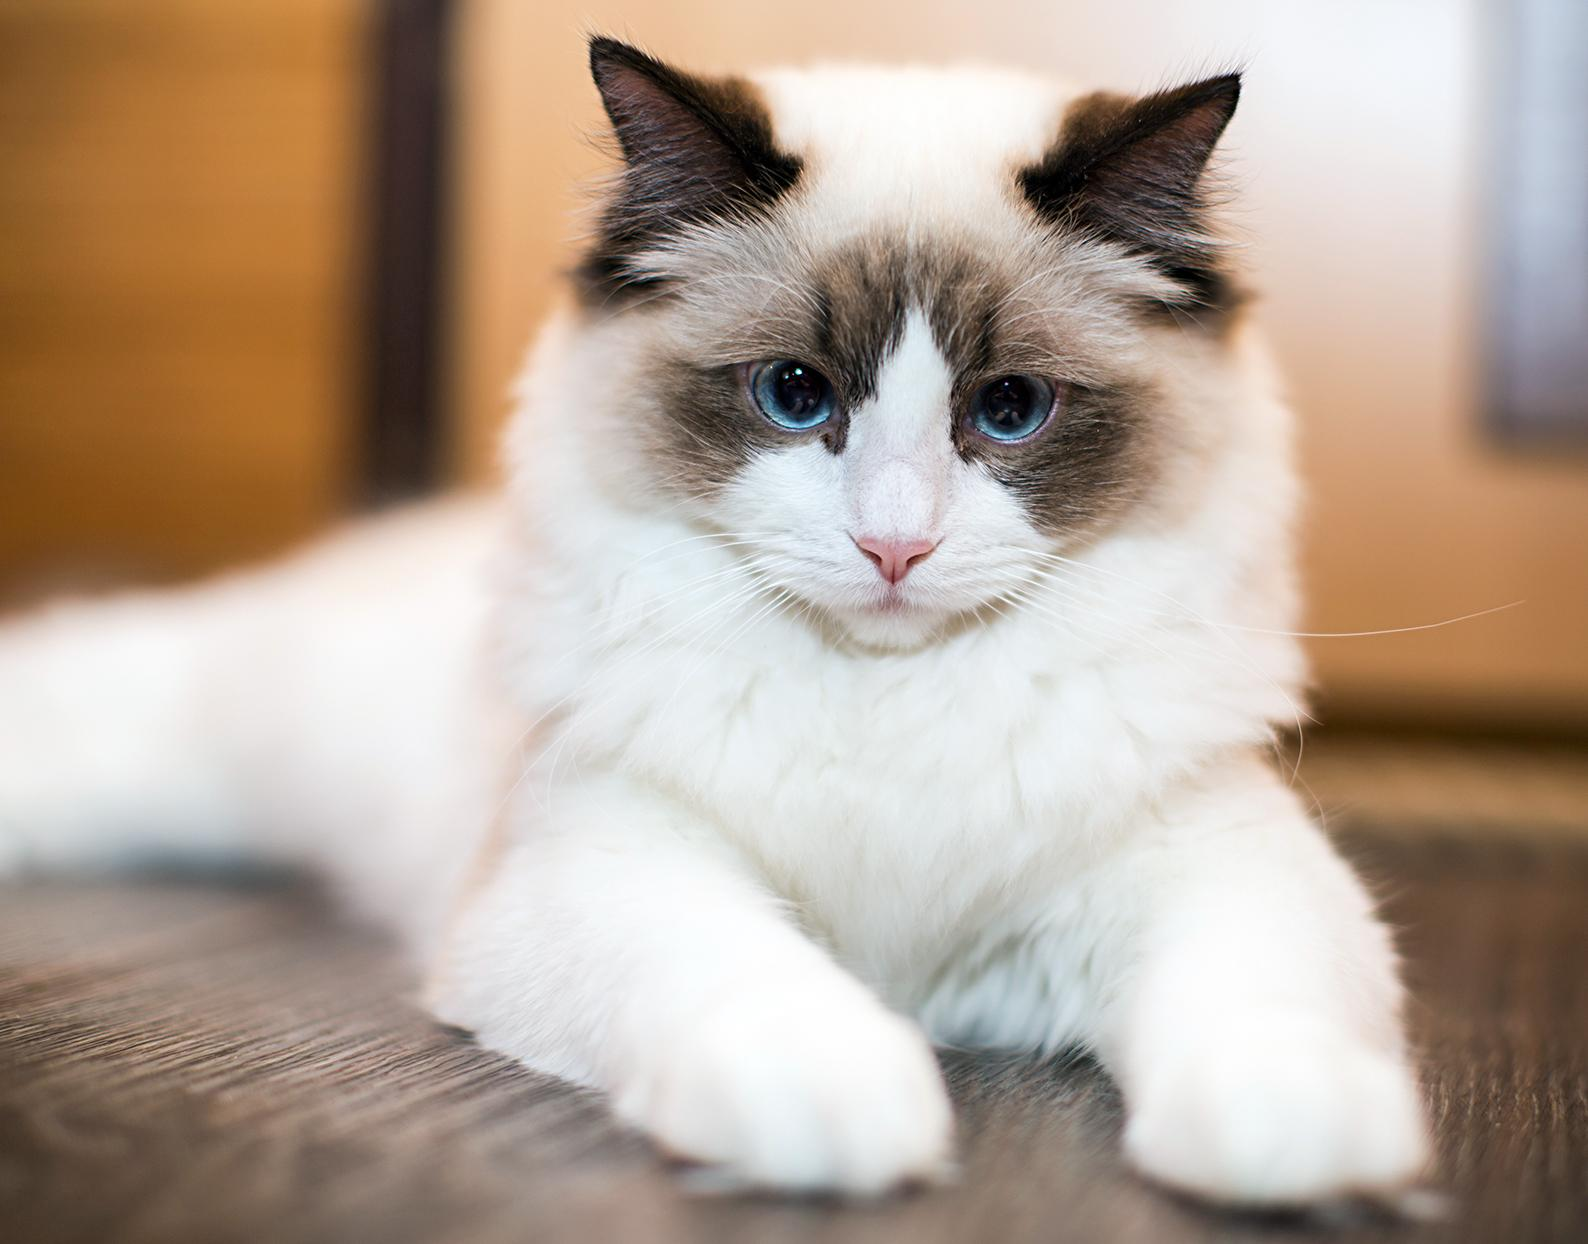ragdoll: (579, 24, 1267, 669)
